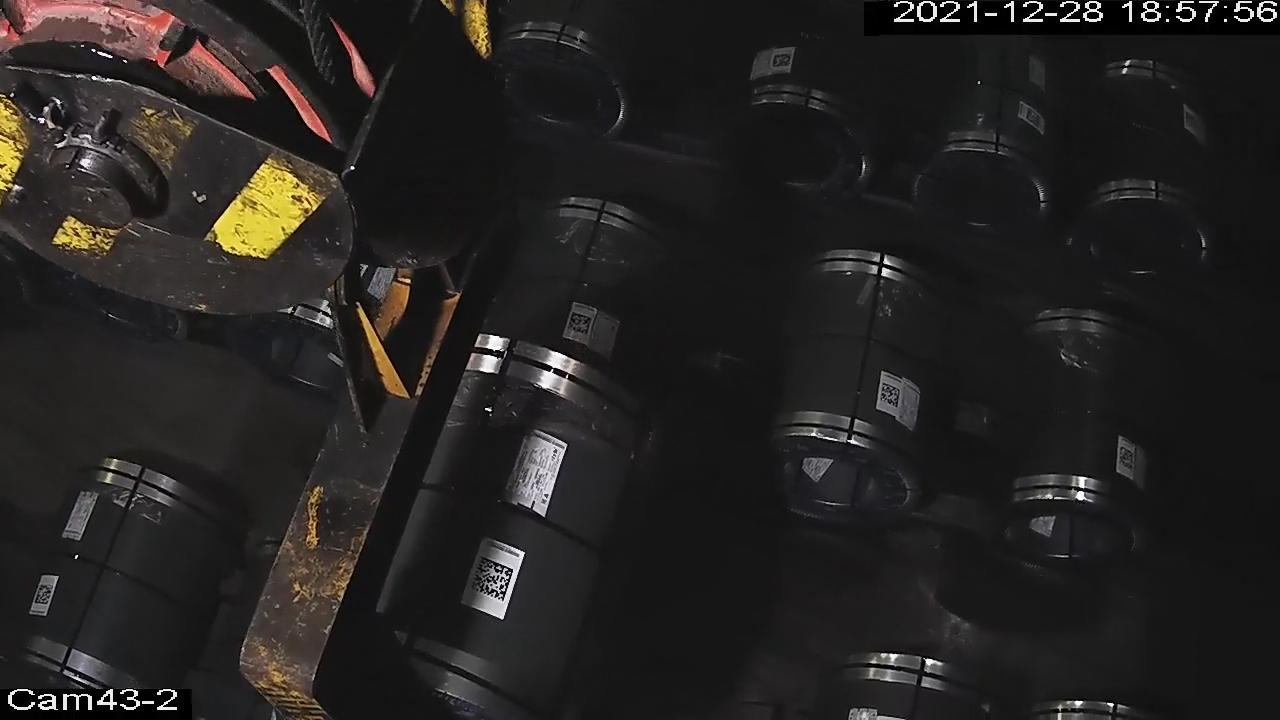data matrix: (467, 554, 517, 604), (565, 310, 596, 338), (878, 381, 904, 410), (1117, 444, 1138, 473), (33, 582, 57, 607), (1025, 103, 1045, 132), (770, 51, 796, 70)
